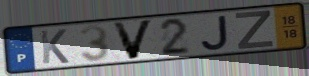2: (158, 17, 191, 58)
3: (79, 23, 110, 64)
J: (199, 13, 231, 52)
K: (38, 28, 71, 66)
V: (110, 18, 156, 61)
Z: (234, 9, 276, 51)
